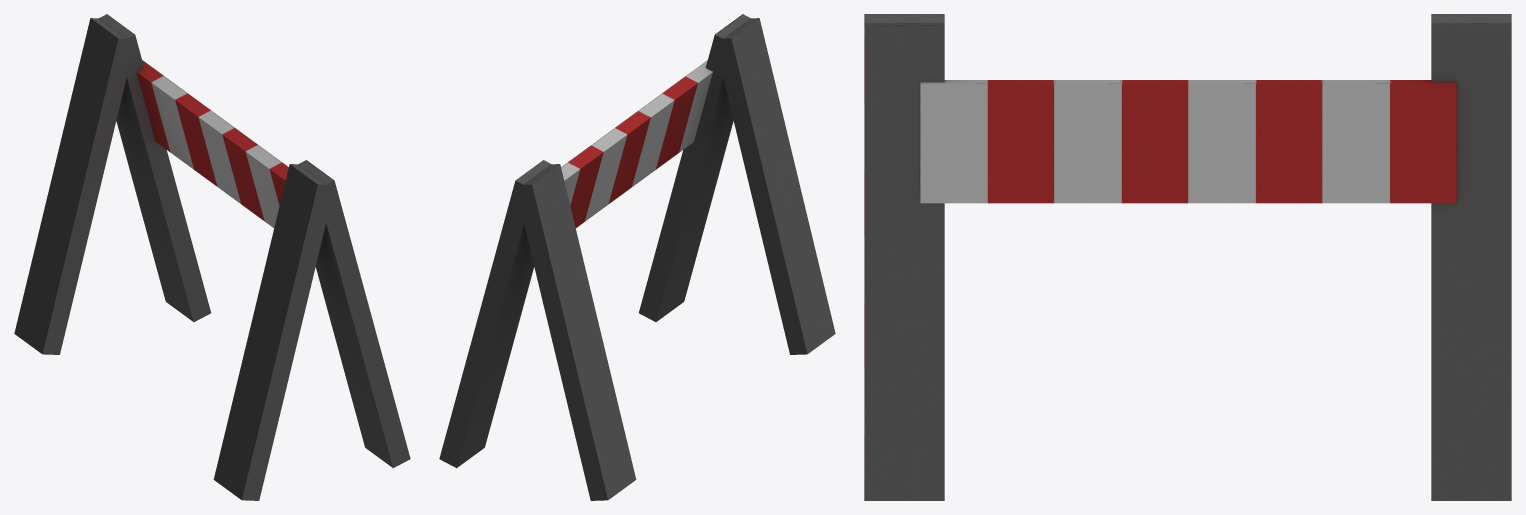
The model's file is stop bject 2.fbx.
The picture shows the model from 3 angles, left to right: view 1: azimuth 30°, elevation 25°; view 2: azimuth 150°, elevation 25°; view 3: azimuth 270°, elevation 25°; orthographic projection. The views are drawn at different scales.
Parts seen in each view (by area): view 1: obstacle28; view 2: obstacle28; view 3: obstacle28.
Part boxes in pixels (x1=…): obstacle28: x1=14, y1=14, x2=410, y2=500; obstacle28: x1=439, y1=14, x2=835, y2=500; obstacle28: x1=864, y1=14, x2=1511, y2=500.
Size of the model in its own units: 15.84 by 27.08 by 36.96.
Materials: 1 (1 with a texture image).
